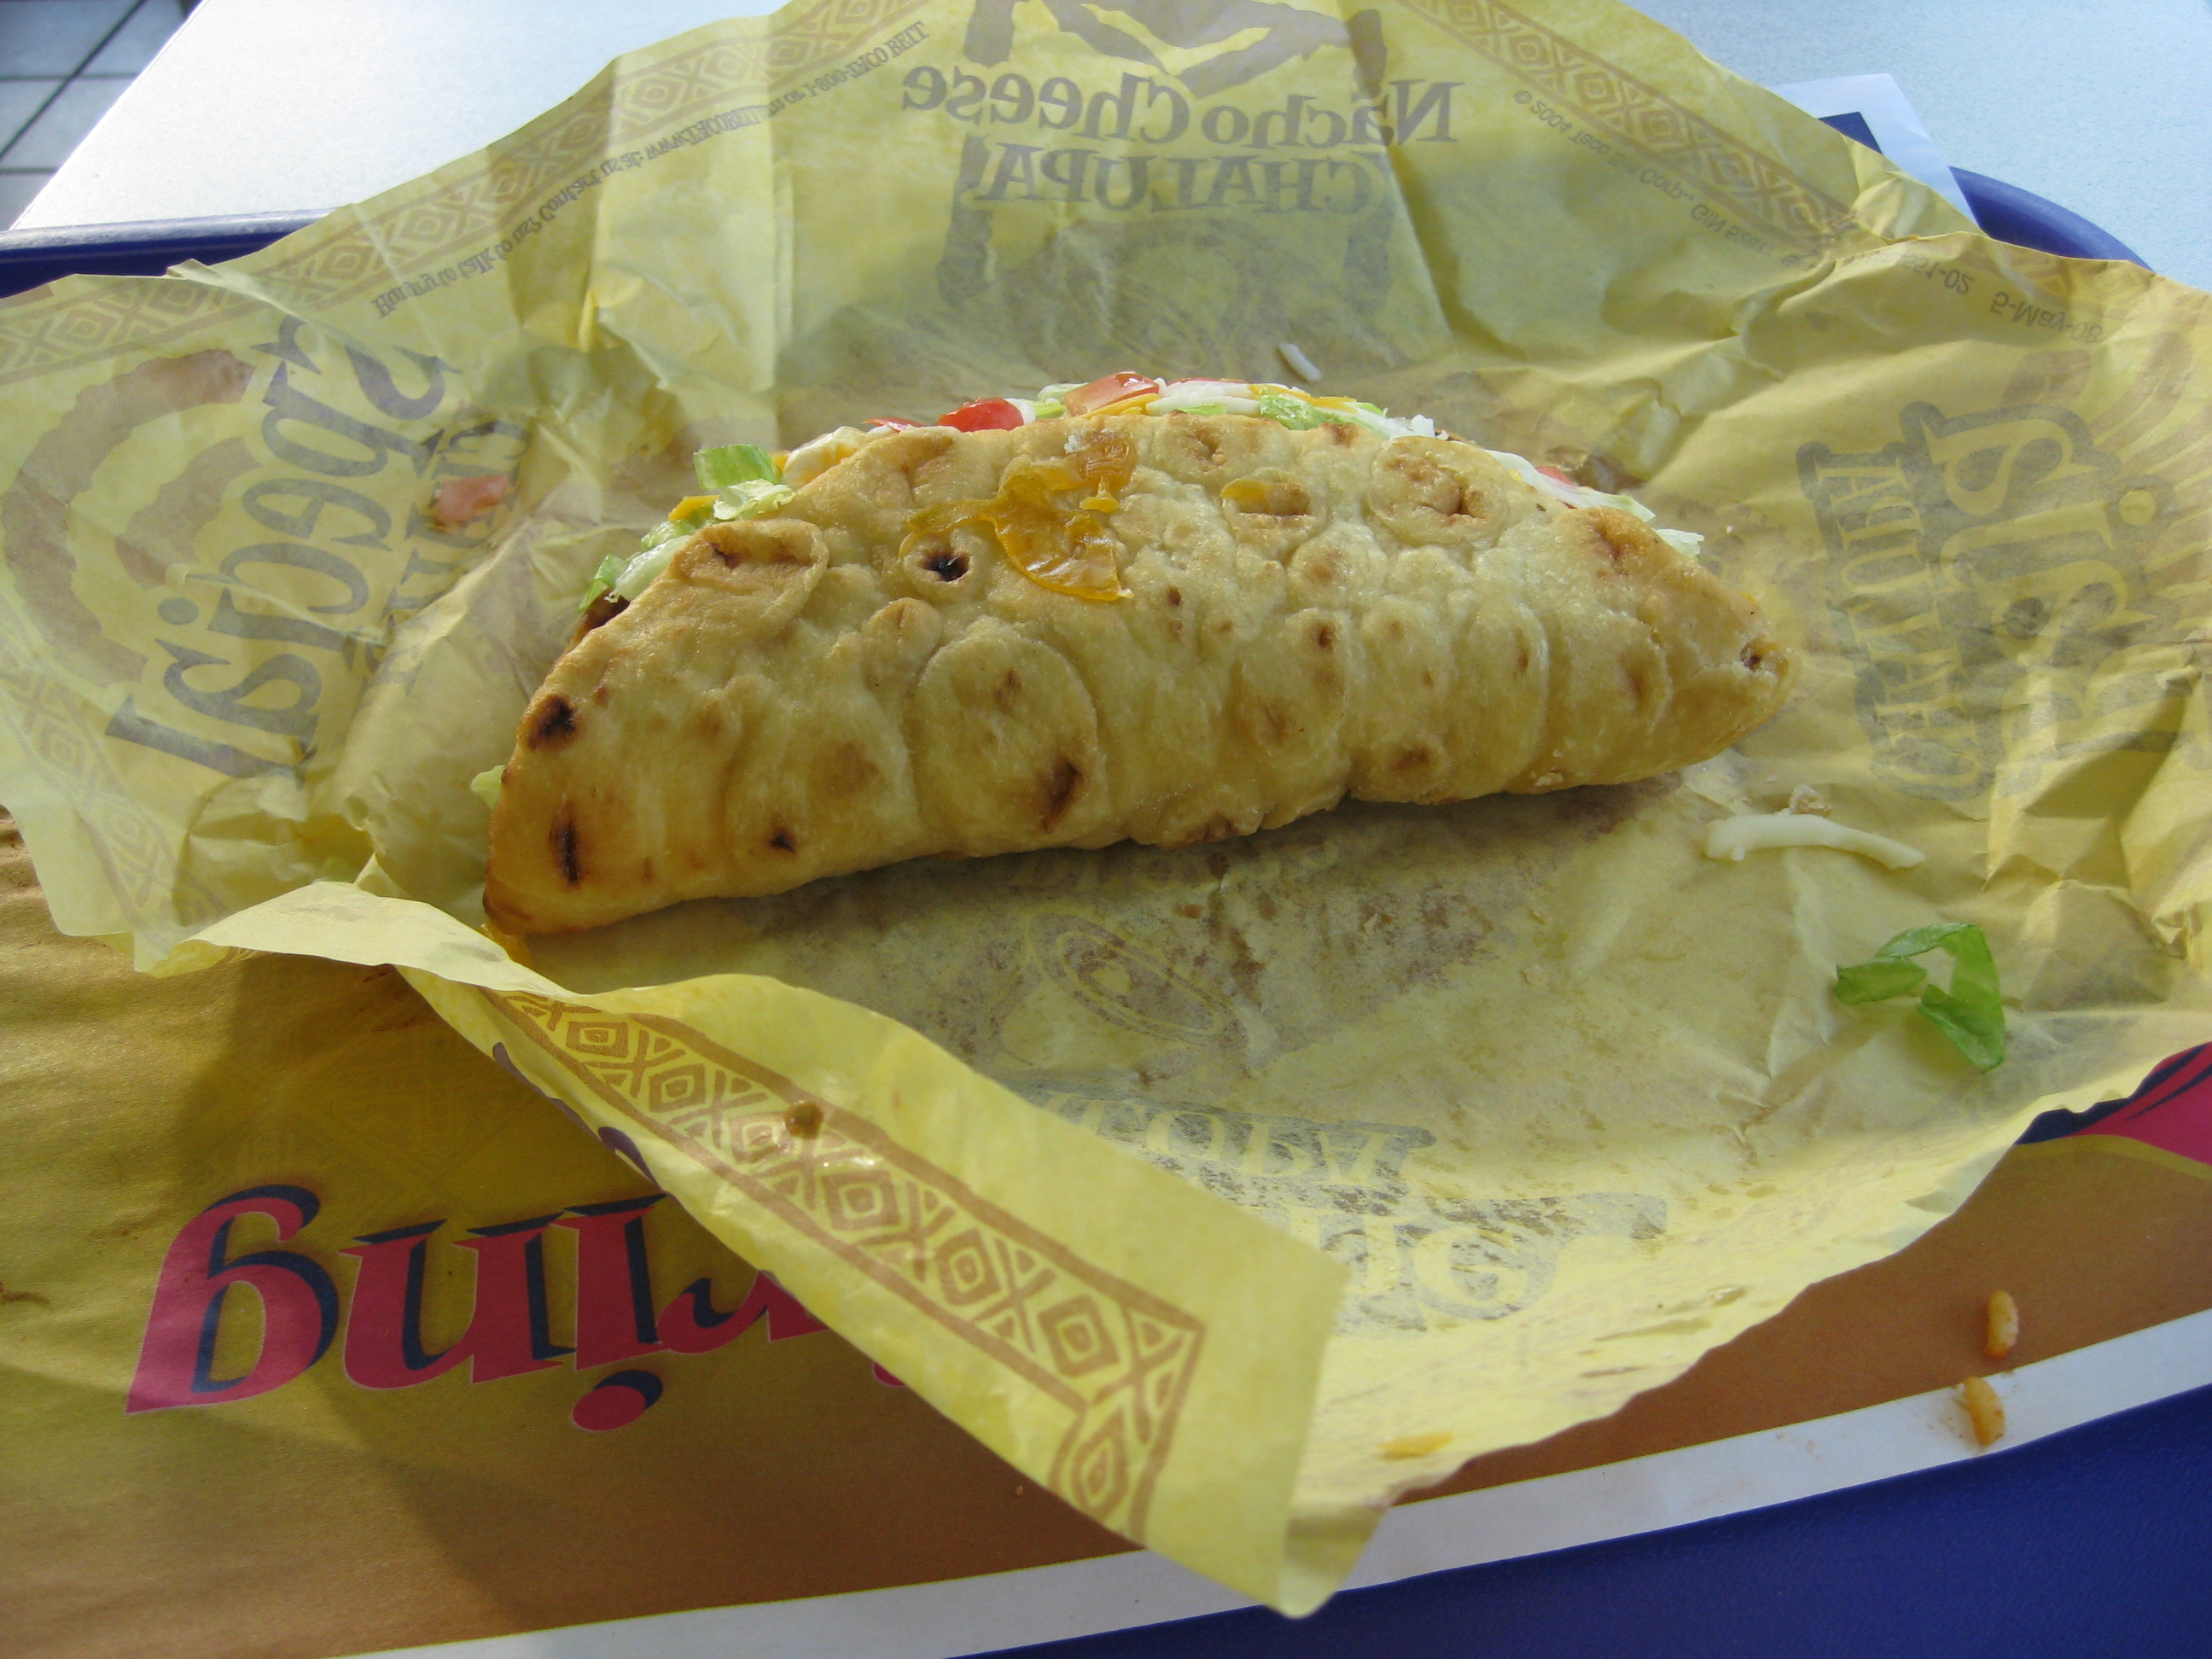taco: (429, 339, 1843, 944)
